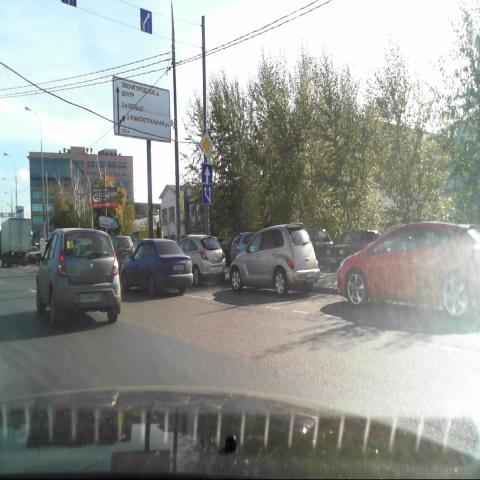2_1: (198, 131, 212, 158)
5_15_2: (140, 9, 153, 36)
5_15_3: (201, 186, 213, 206)
5_5: (201, 161, 213, 185)
